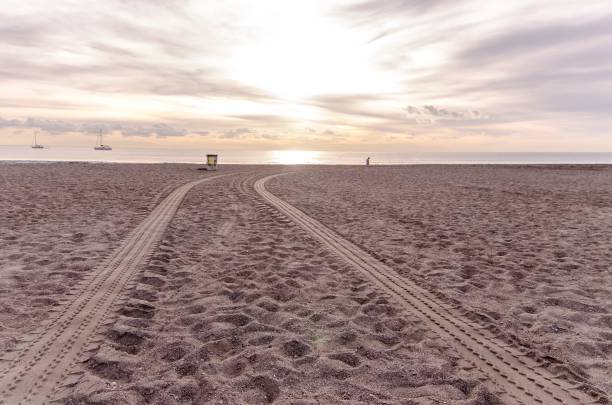vehicle_track: (254, 174, 593, 403), (0, 175, 226, 404)
